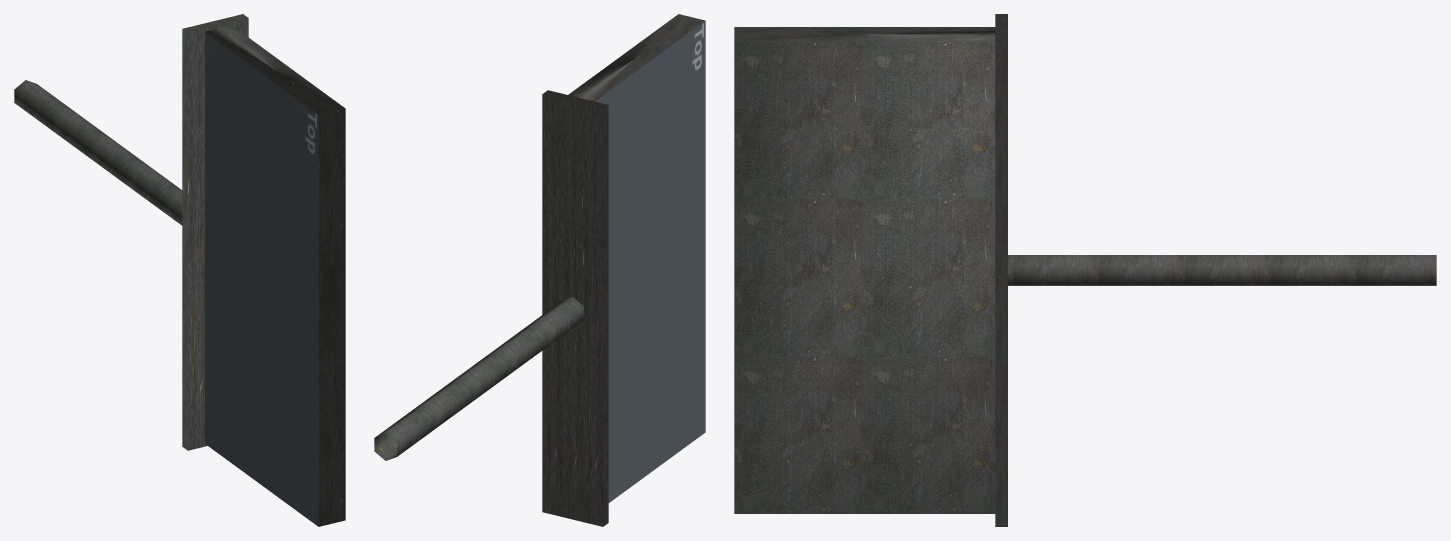
File: billboard2.obj
3 renders of one model, left to right at view 1: azimuth 30°, elevation 25°; view 2: azimuth 150°, elevation 25°; view 3: azimuth 270°, elevation 25°, orthographic. The views are drawn at different scales.
Visible parts, largest first — view 1: Material__35, Metal_Steel; view 2: Material__35, Metal_Steel; view 3: Material__35, Metal_Steel.
Part boxes in pixels (x1=…): Material__35: x1=205, y1=25, x2=345, y2=526; Metal_Steel: x1=14, y1=14, x2=248, y2=450; Material__35: x1=568, y1=14, x2=705, y2=502; Metal_Steel: x1=374, y1=90, x2=608, y2=526; Material__35: x1=734, y1=27, x2=995, y2=513; Metal_Steel: x1=995, y1=14, x2=1436, y2=526.
Bounding box in the file's own units: 1.4 × 9.22 × 12.25.
Materials: 2 (2 with a texture image).
